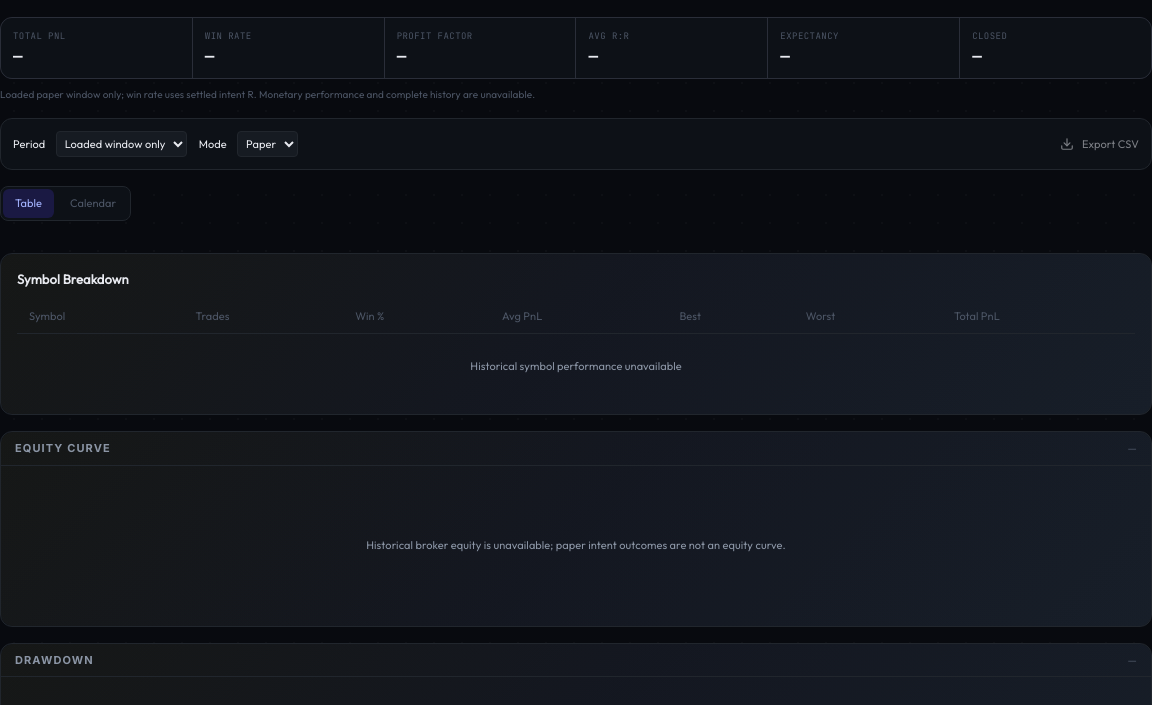
original data page layouts › keeps Journal table/calendar selection and unknown historical charts
Expected: the heading "Equity Curve" is shown, [15,440,111,457]
Click the tab "Calendar": (93, 204) [58,189,128,218]
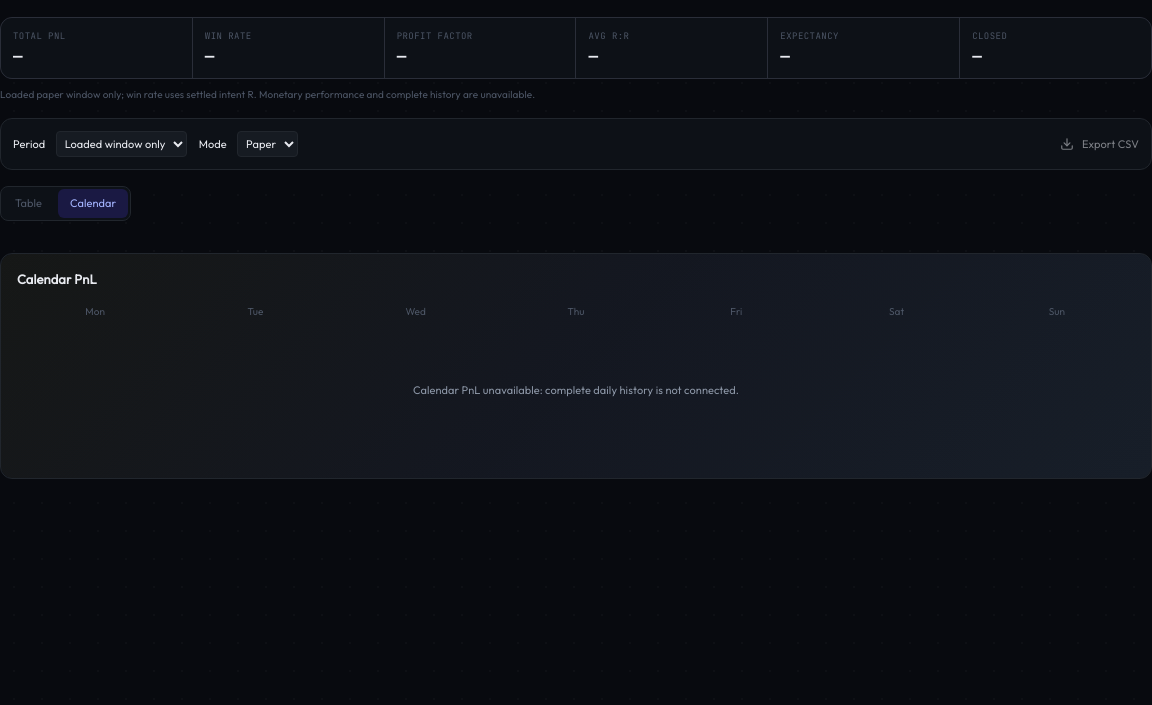
Now the text "Calendar PnL unavailable" is shown, box [413,383,739,397]
Click the tab "Table": (28, 204) [3,189,54,218]
(page scrolled)
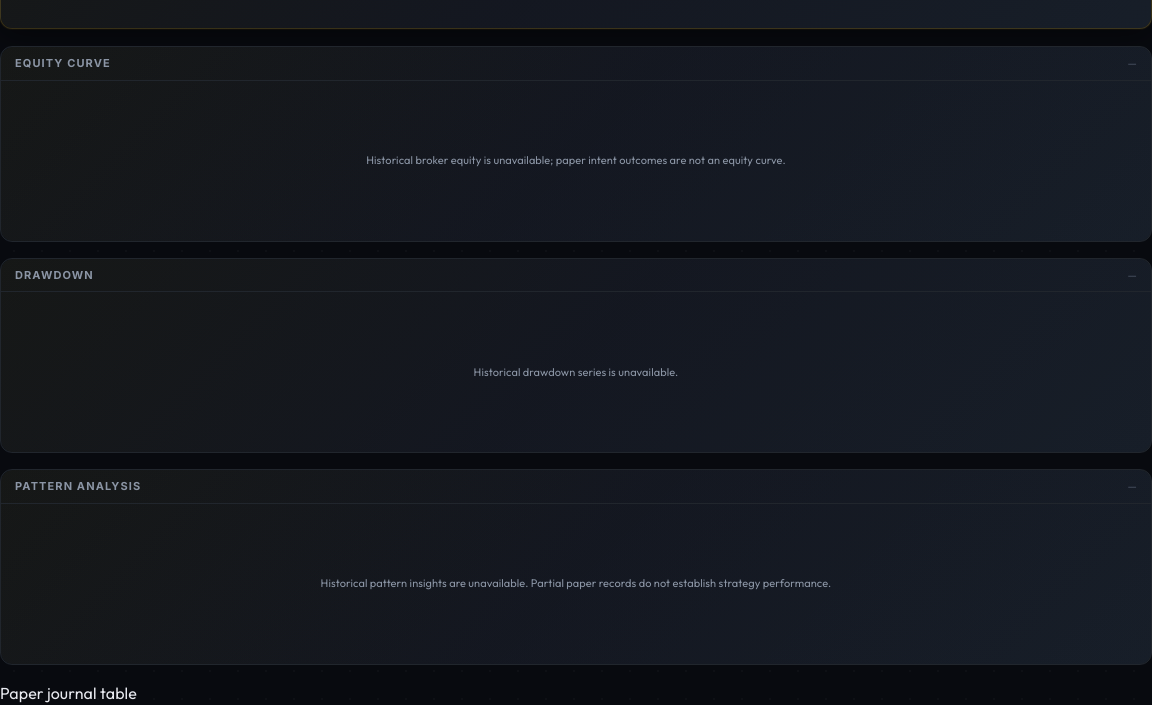
Now the text "Paper journal table" is shown, box [0,683,137,703]
